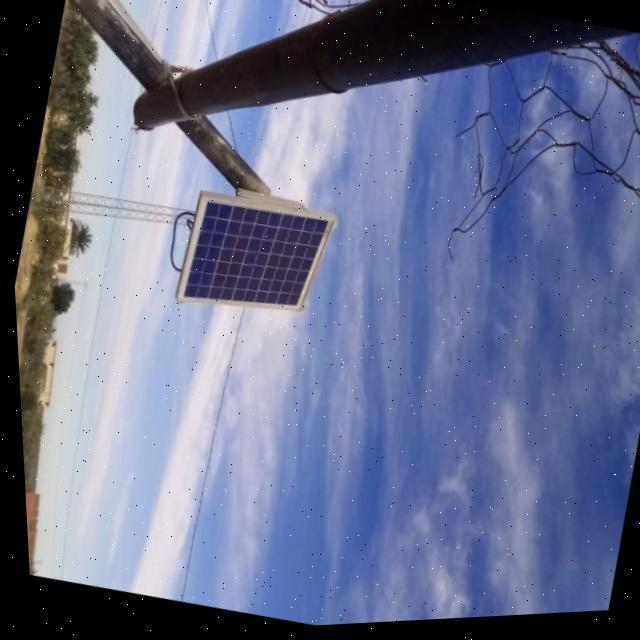Normal Solar Panel: (172, 191, 334, 331)
